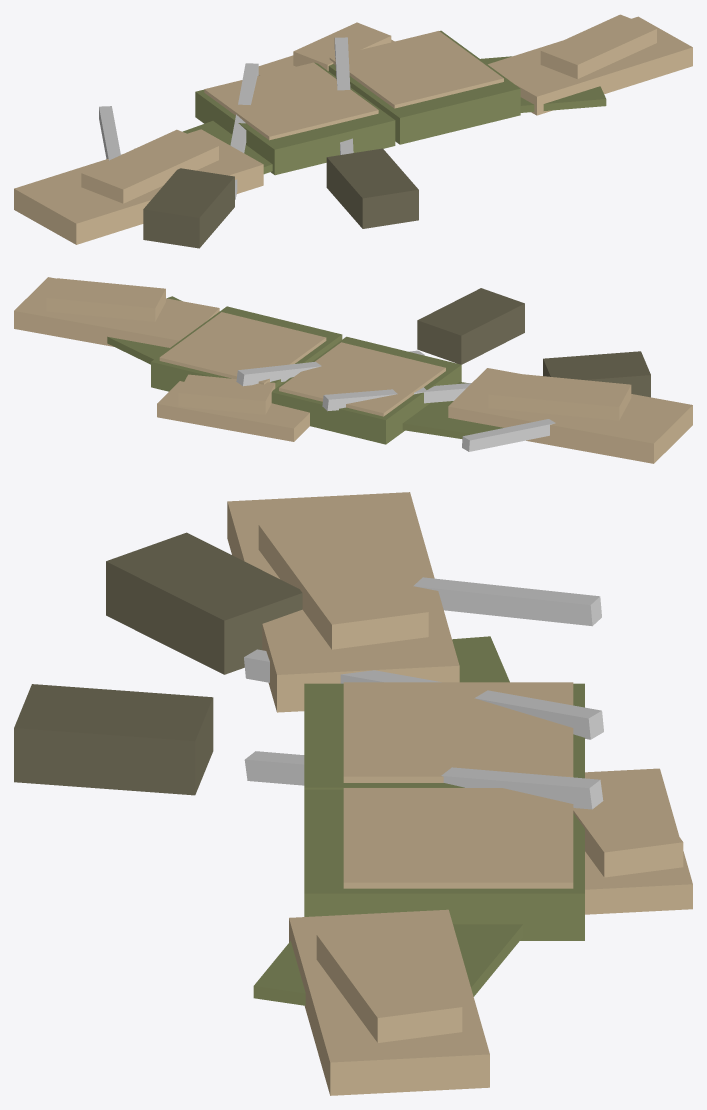
The model's file is SM_HescoCorto2_v3_RemateSacos_e3_Brecha_LOD1.fbx.
3 views of the same model, one above another, from view 1: azimuth 30°, elevation 25°; view 2: azimuth 150°, elevation 25°; view 3: azimuth 270°, elevation 25° (orthographic). The views are drawn at different scales.
Visible parts, largest first — view 1: SM_hesco_piezas_v75_LOD1; view 2: SM_hesco_piezas_v75_LOD1; view 3: SM_hesco_piezas_v75_LOD1.
Part boxes in pixels (box(x1,y1,x2,y2)): SM_hesco_piezas_v75_LOD1: box(14, 14, 692, 248); SM_hesco_piezas_v75_LOD1: box(14, 277, 692, 463); SM_hesco_piezas_v75_LOD1: box(14, 492, 692, 1095).
Bounding box in the file's own units: 5.83 × 0.351 × 2.95.
